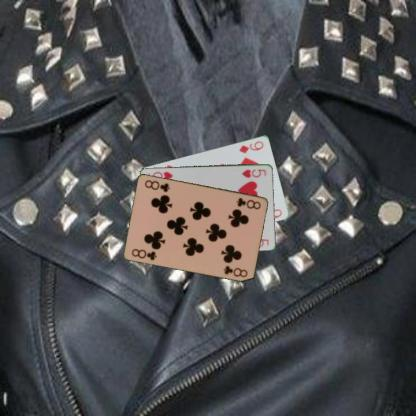5h: (240, 166, 267, 178)
8c: (234, 195, 262, 210), (130, 246, 158, 261)
9d: (237, 138, 265, 154)
